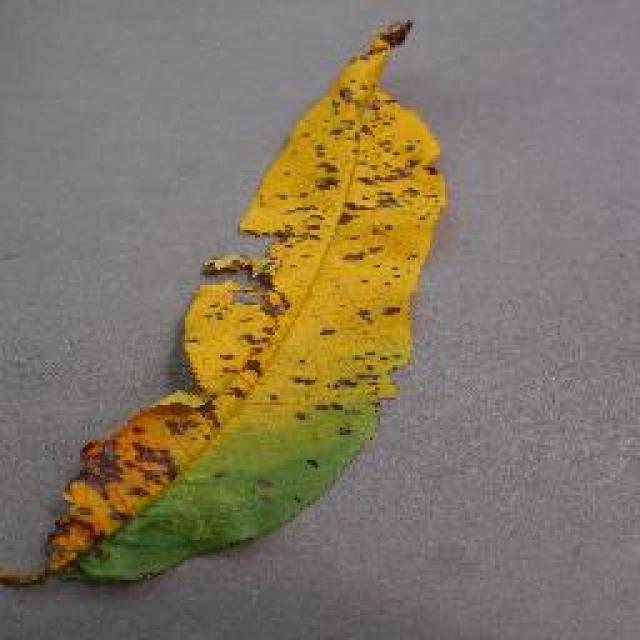Peach_Bacterial_Spot: (175, 155, 435, 523)
